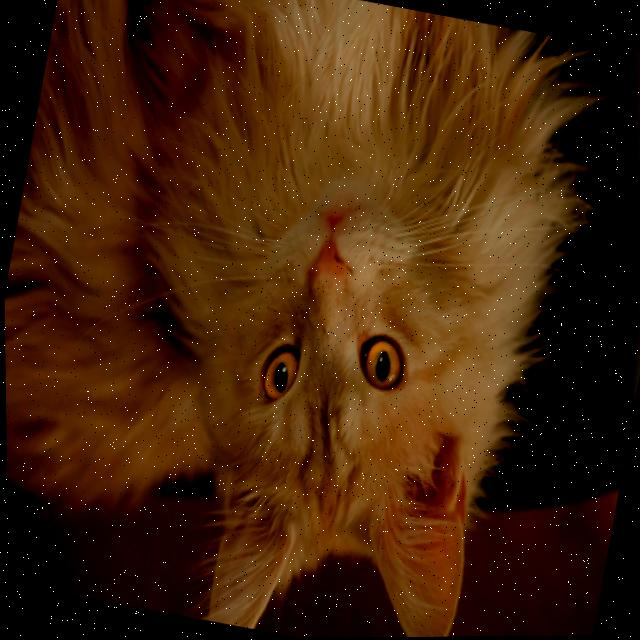Maine Coon: (0, 0, 628, 640)
